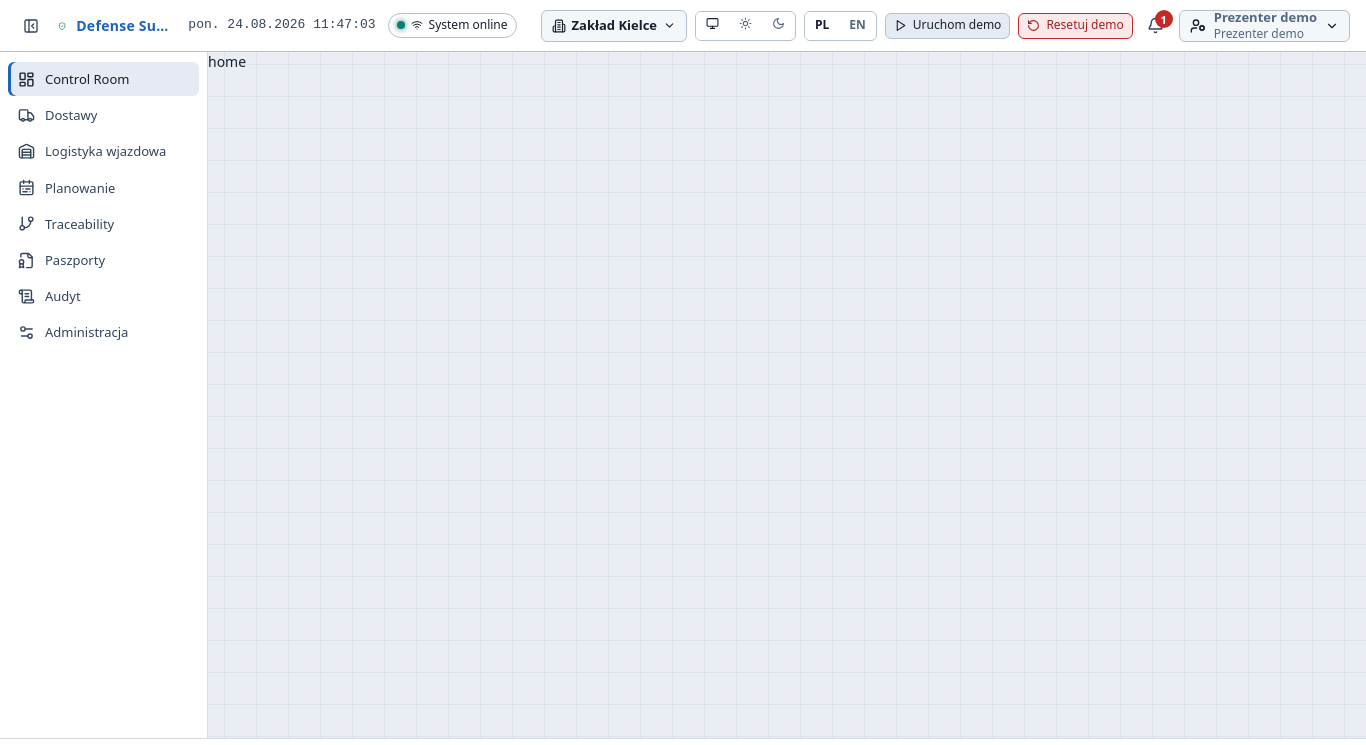
Test: AppShell › presenter panel lists steps and next navigates without performing actions
Click the button with test id "run-demo" at (948,26), box [885,12,1010,38]
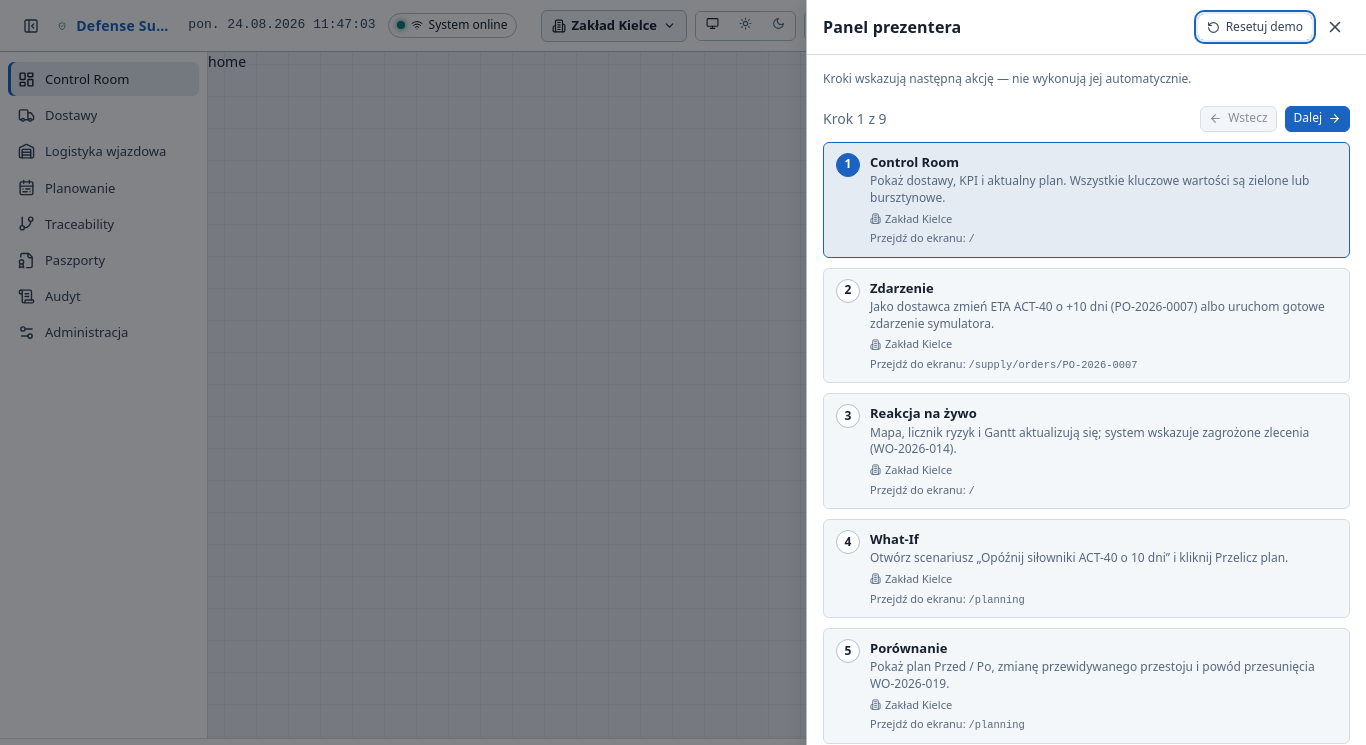
Click the button with test id "presenter-next" at (1317,119), box [1284,106,1350,132]
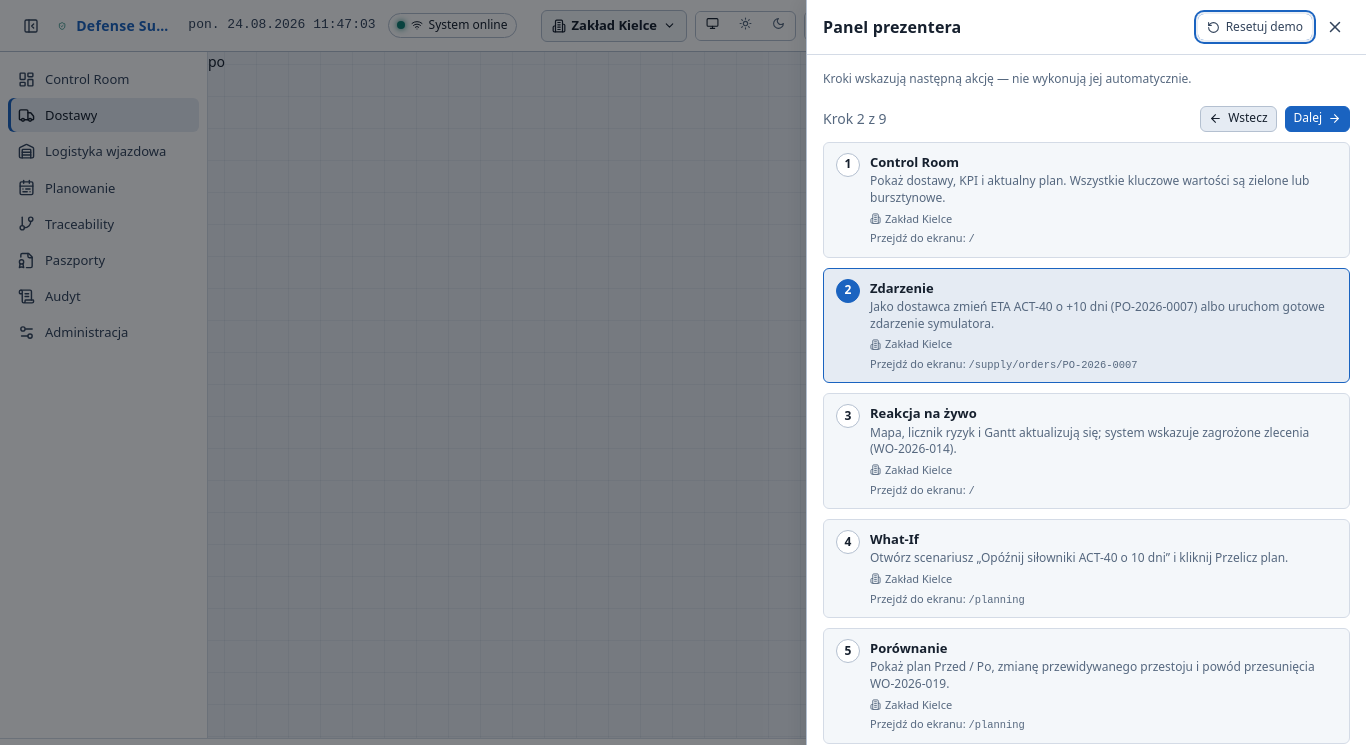
Expected: the text "po" is shown, [208,52,225,71]
Expected: the button with test id "presenter-prev" is enabled, [1200,106,1277,132]
